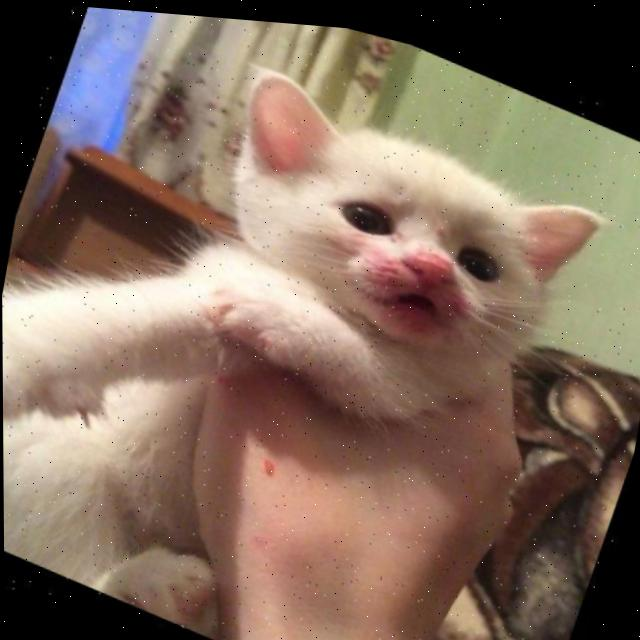Cats: (0, 0, 631, 636)
